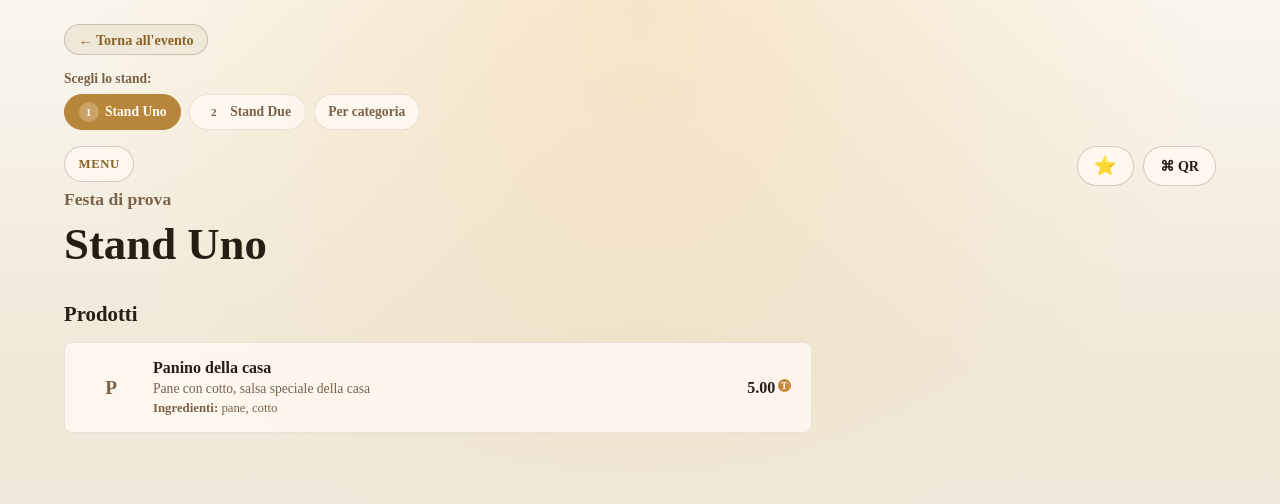
it: menu stand — descrizione nella vista per categoria › la mostra anche quando i prodotti sono raggruppati per categoria
Expected: the text "Panino della casa" is shown, [153, 359, 271, 376]
Click the button "Per categoria". click: (367, 112)
box: [314, 94, 420, 130]
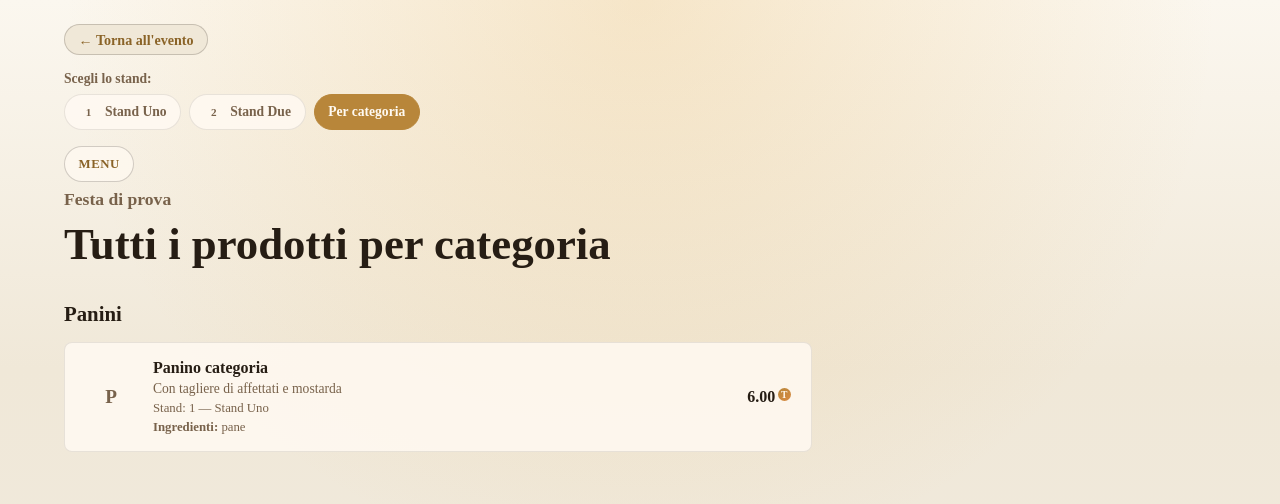
Expected: the text "Panino categoria" is shown, [153, 359, 268, 376]
Expected: the text "Con tagliere di affettati e mostarda" is shown, [153, 381, 342, 396]
